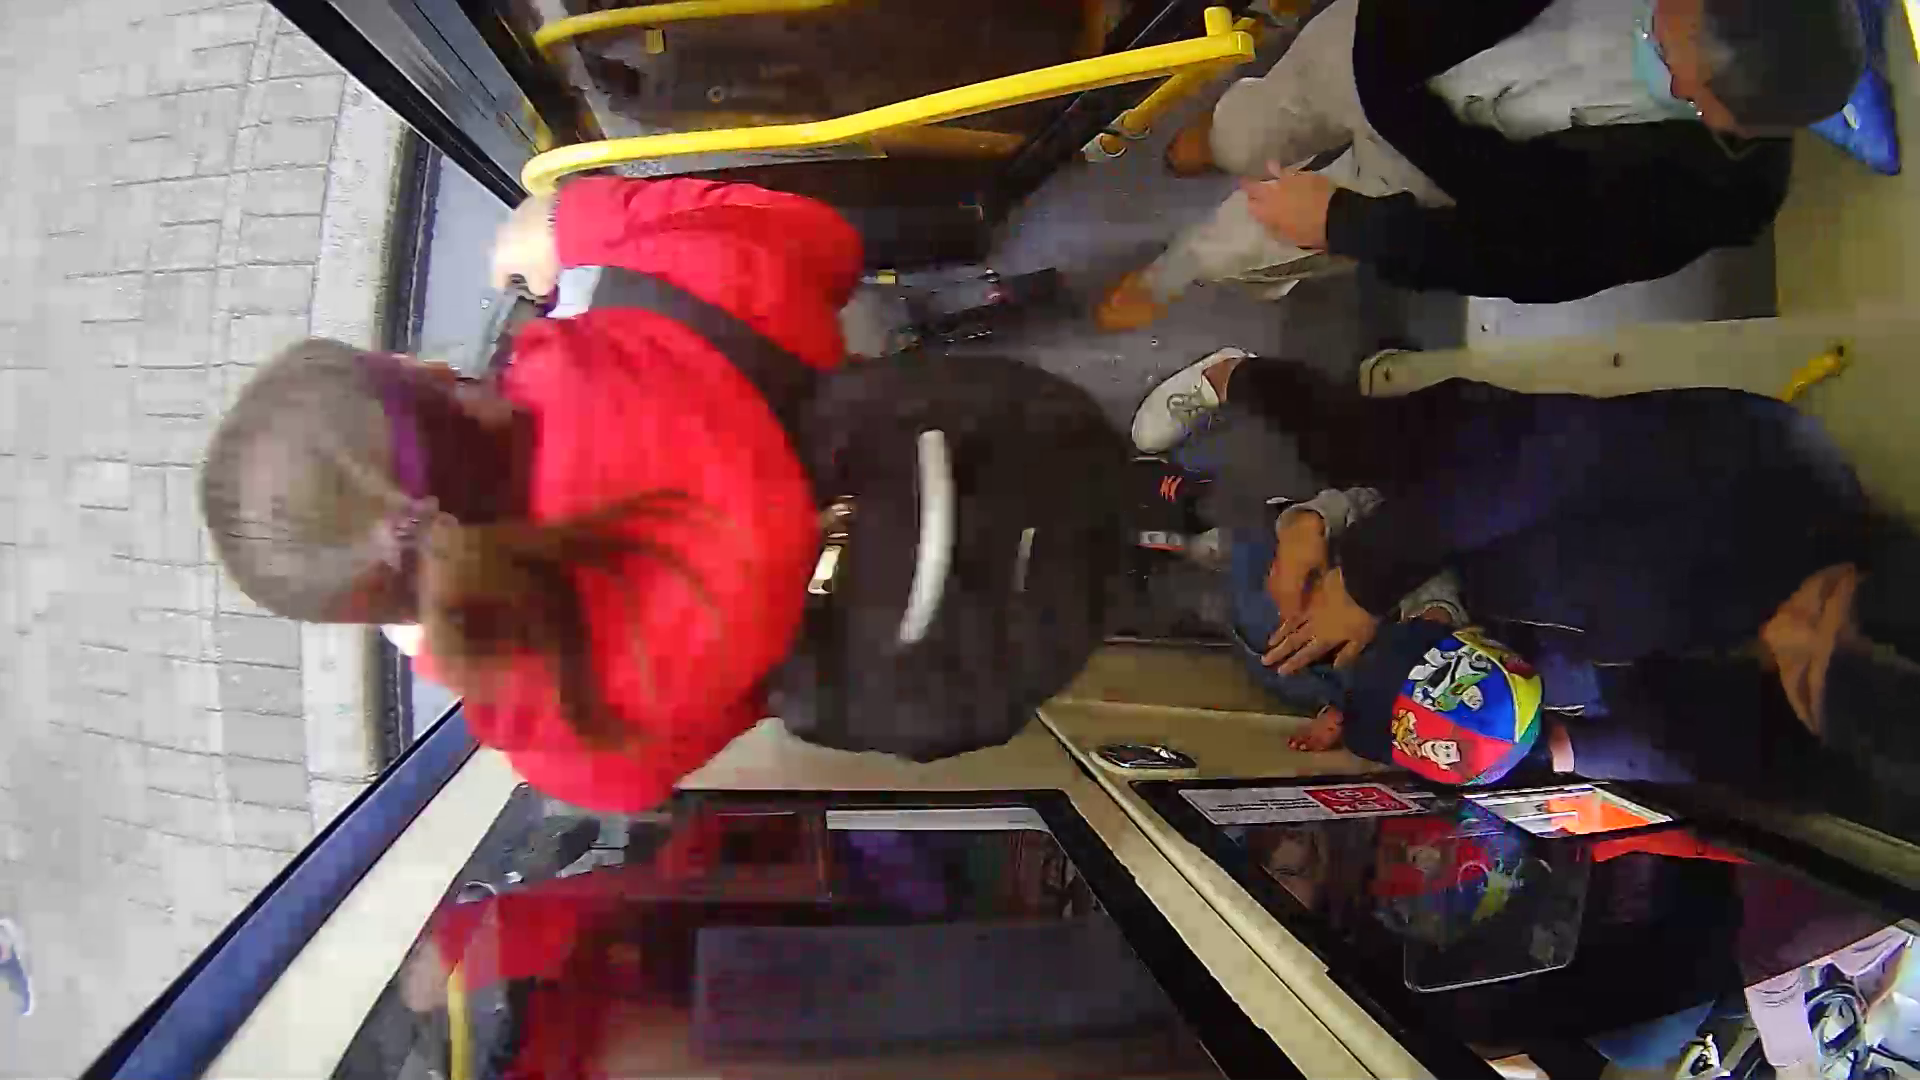person: (241, 164, 1146, 768)
